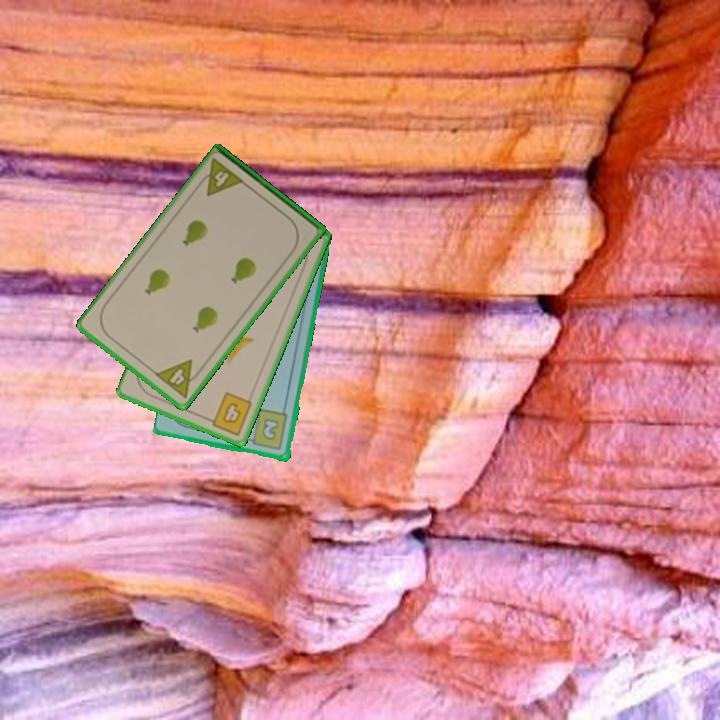2b: (243, 406, 291, 453)
4b: (202, 389, 255, 438)
4p: (151, 356, 206, 401), (193, 155, 248, 199)
